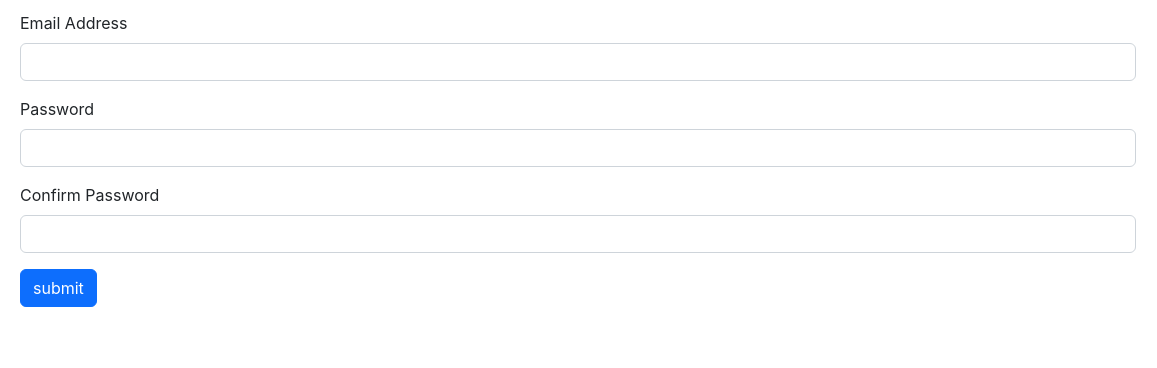
Scenario: should show an error if password has less than 5 characters, but correct email
expect the text "The password length needs to be 5 characters or more" is not shown: met
Type "test@test.com" into the field labelled "Email Address" at (578, 62), box top-left (20, 43), bottom-right (1136, 81)
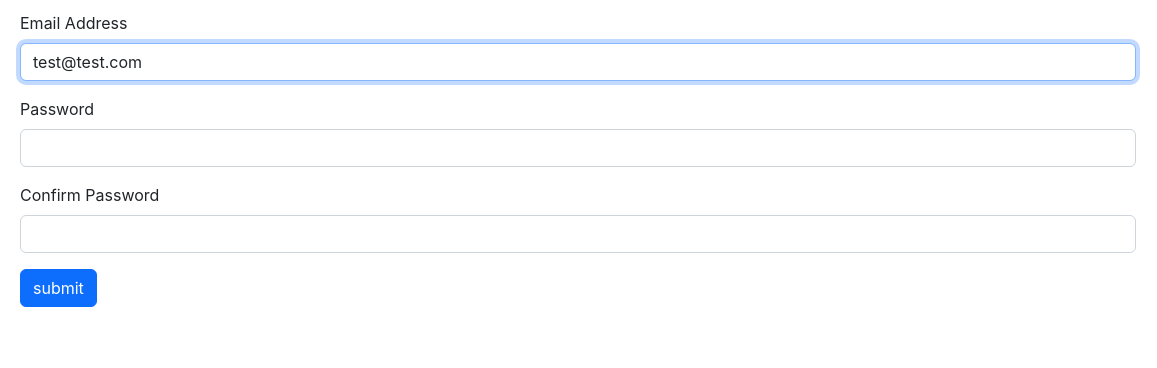
Type "test" into the password field labelled "Password" at (578, 148), box top-left (20, 129), bottom-right (1136, 167)
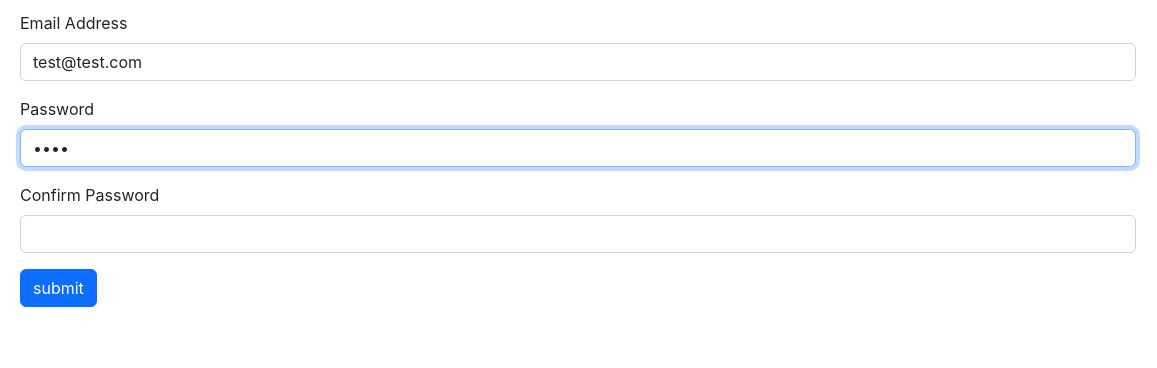
Click the button "submit" at (58, 288), box top-left (20, 269), bottom-right (97, 307)
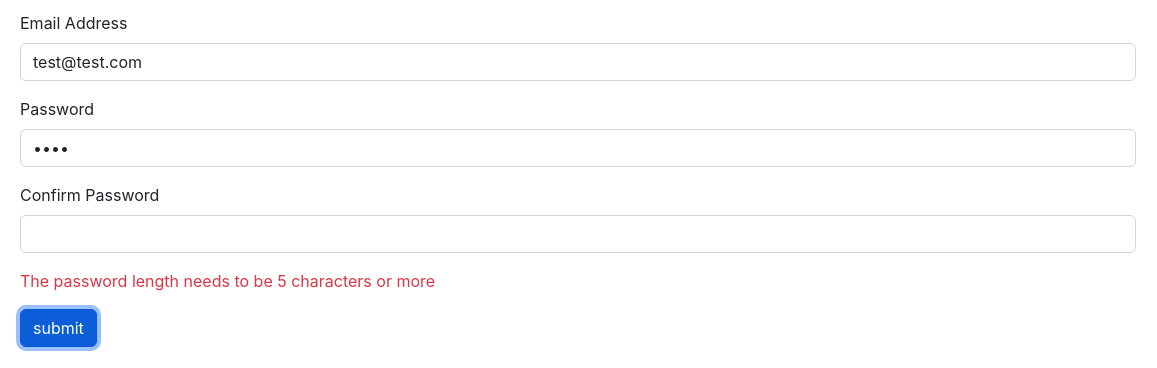
expect the text "The password length needs to be 5 characters or more" is shown: met, box top-left (20, 271), bottom-right (435, 291)
